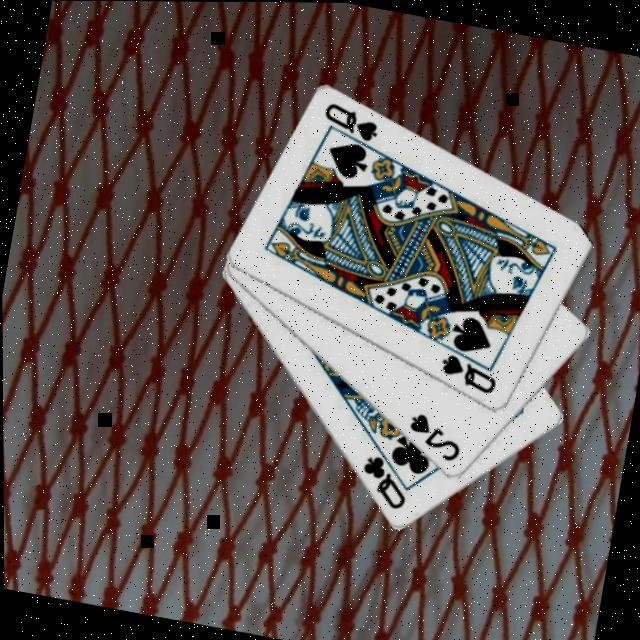2S: (399, 409, 465, 467)
QC: (352, 452, 413, 516)
QS: (433, 351, 501, 399), (316, 99, 383, 147)
